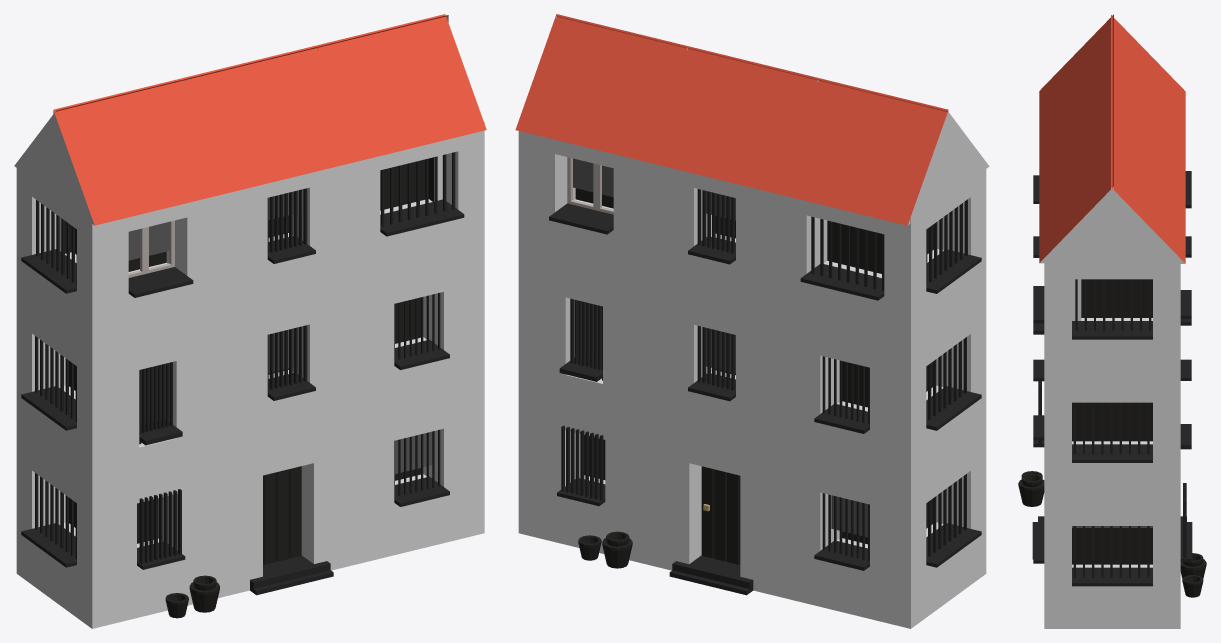
Rendered from CasaProcedural_16.fbx.
3 views of the same model, side by side, from view 1: azimuth 30°, elevation 25°; view 2: azimuth 150°, elevation 25°; view 3: azimuth 270°, elevation 25° (orthographic). The views are drawn at different scales.
Visible parts, largest first — view 1: Procedural_Building; view 2: Procedural_Building; view 3: Procedural_Building.
Boxes of the visible parts, x1=… form: Procedural_Building: x1=14, y1=14, x2=486, y2=628; Procedural_Building: x1=515, y1=14, x2=989, y2=628; Procedural_Building: x1=1018, y1=14, x2=1206, y2=628.
Bounding box in the file's own units: 316 × 359 × 138.
